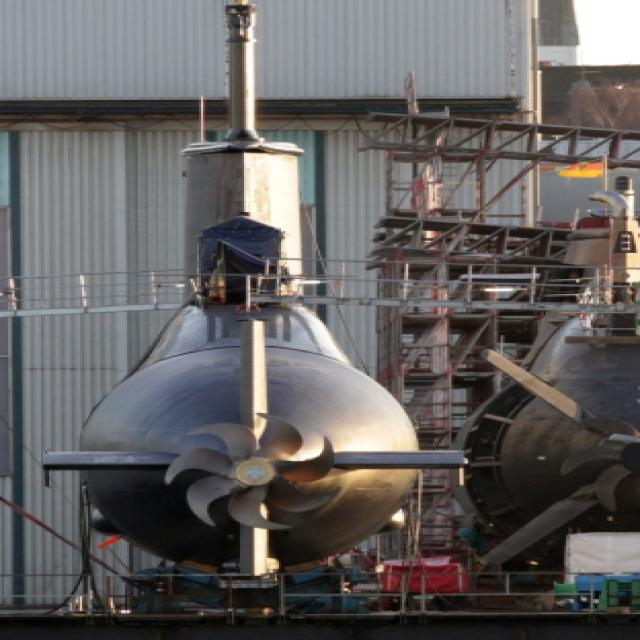submarine: (36, 1, 475, 589), (491, 209, 640, 585)
